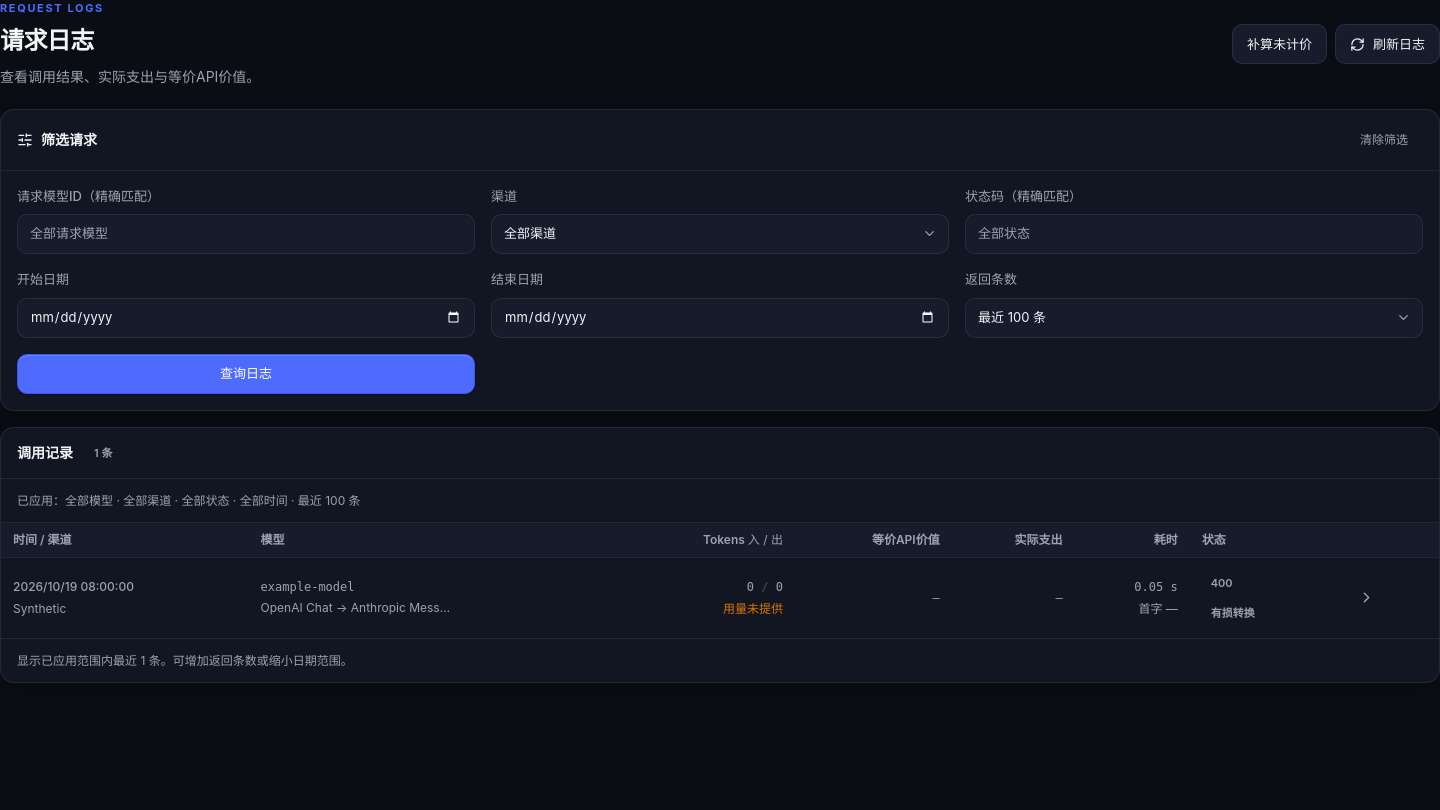
Test case: request diagnosis › reports clipboard rejection and permits retrying the same safe summary
This screenshot has width=1440, height=810.
What coordinates should you click on to do the following:
click the button named "查看请求 7 详情"
I would click on:
 (1366, 598)
Its box is x1=1348 y1=580 x2=1384 y2=616.
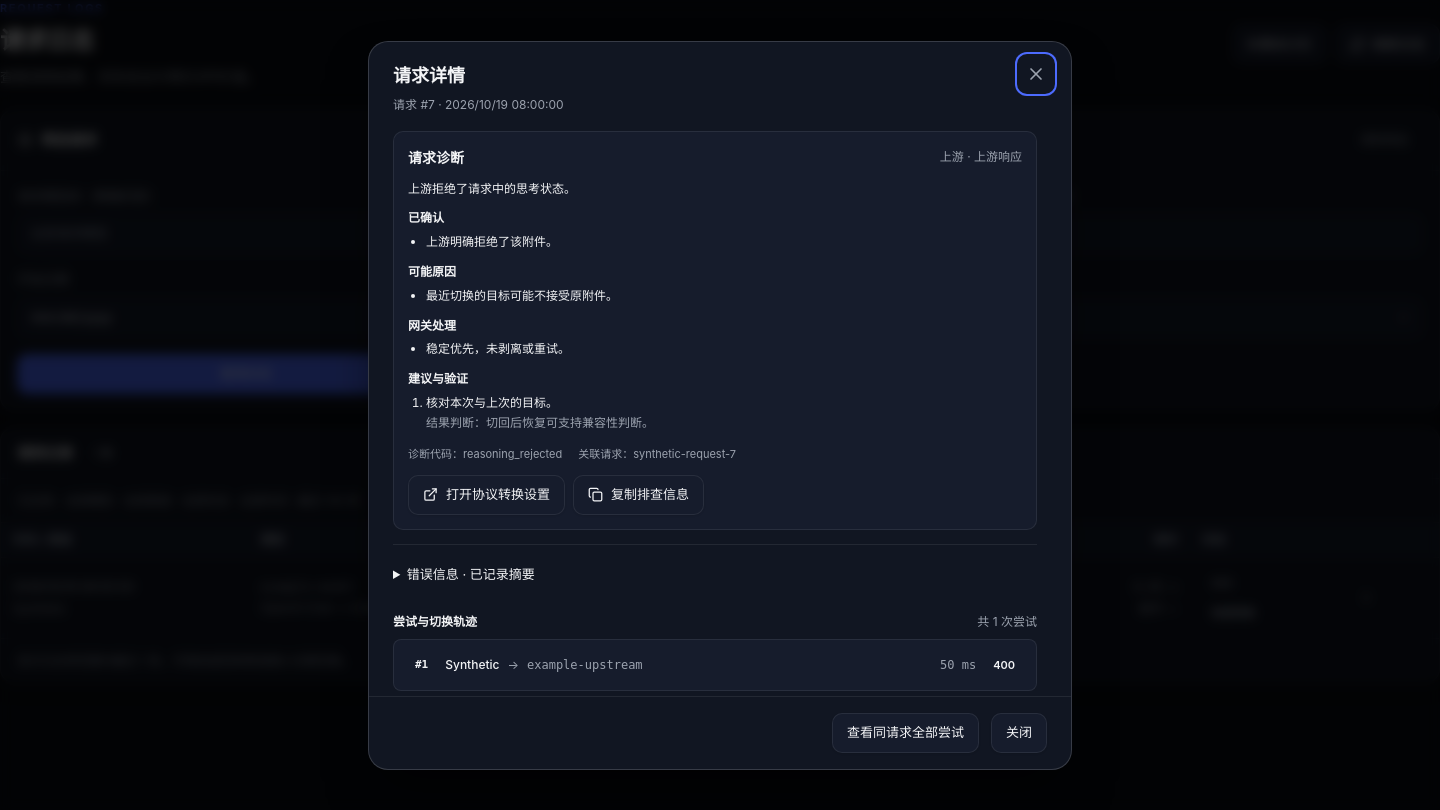
What coordinates should you click on to do the following:
click the button "复制排查信息"
I would click on:
 (638, 495)
Its box is x1=573 y1=475 x2=704 y2=515.
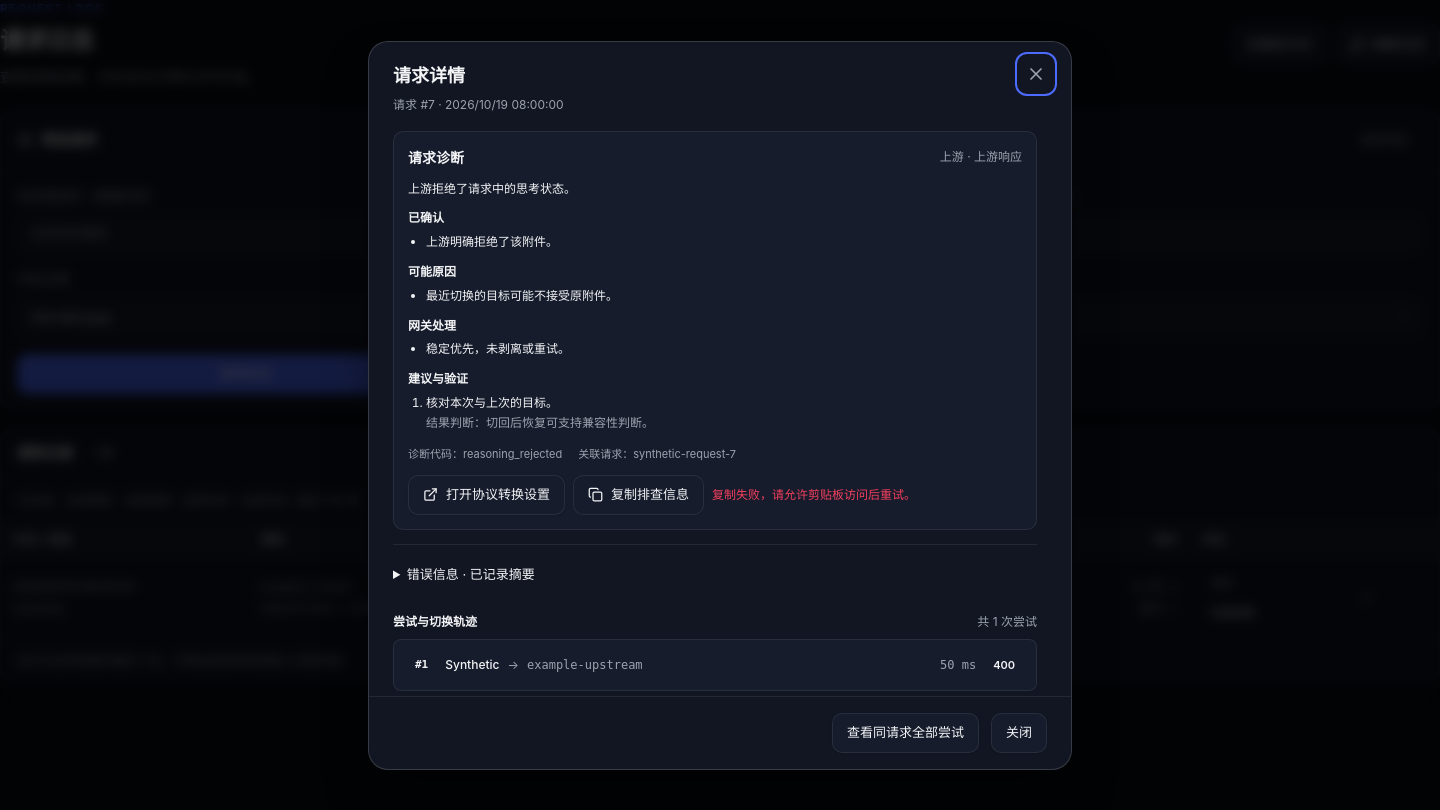
Now the text "复制失败，请允许剪贴板访问后重试。" is shown, box x1=712 y1=485 x2=916 y2=505
What coordinates should you click on to do the following:
click the button "复制排查信息"
I would click on:
 (638, 495)
Its box is x1=573 y1=475 x2=704 y2=515.
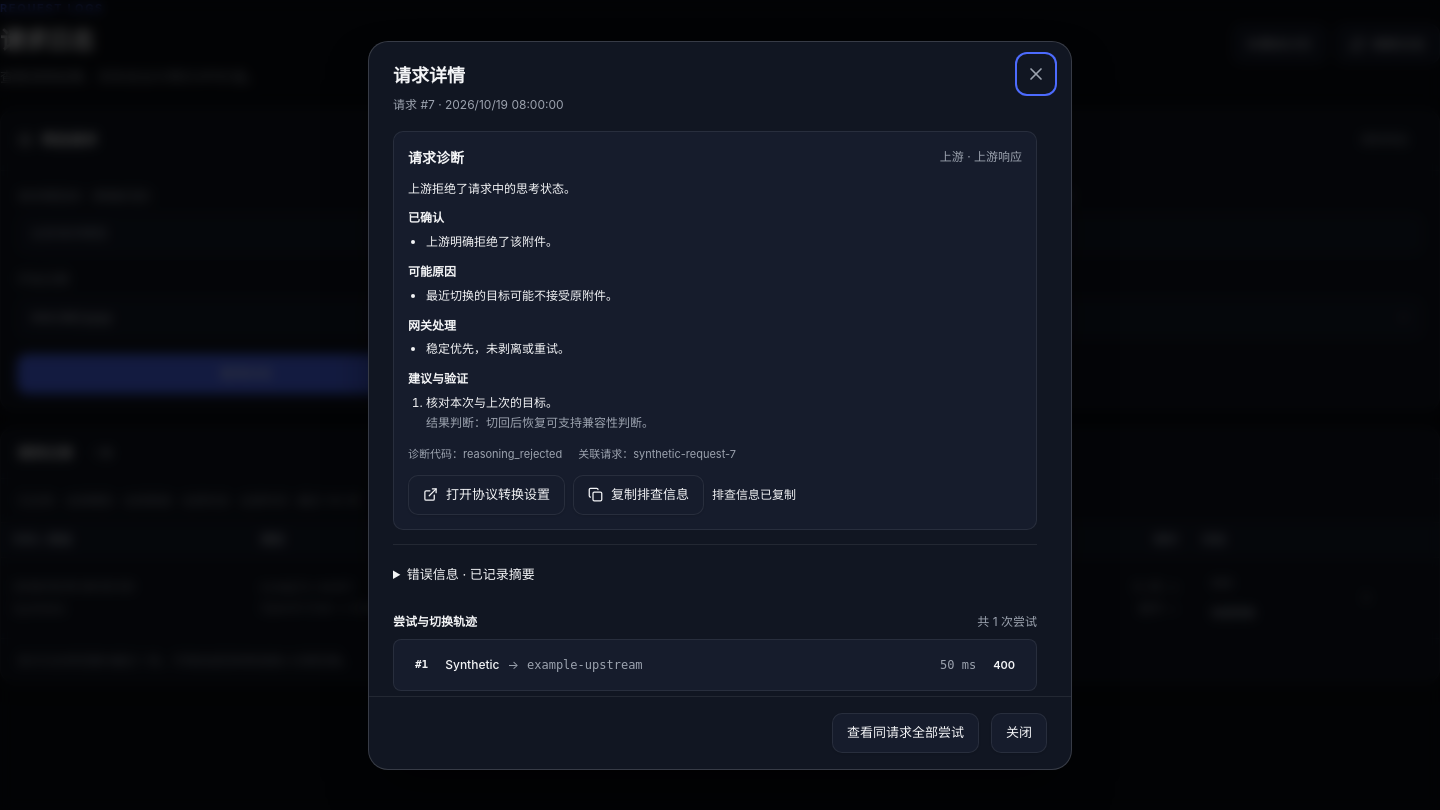
Now the text "排查信息已复制" is shown, box x1=712 y1=485 x2=796 y2=505
